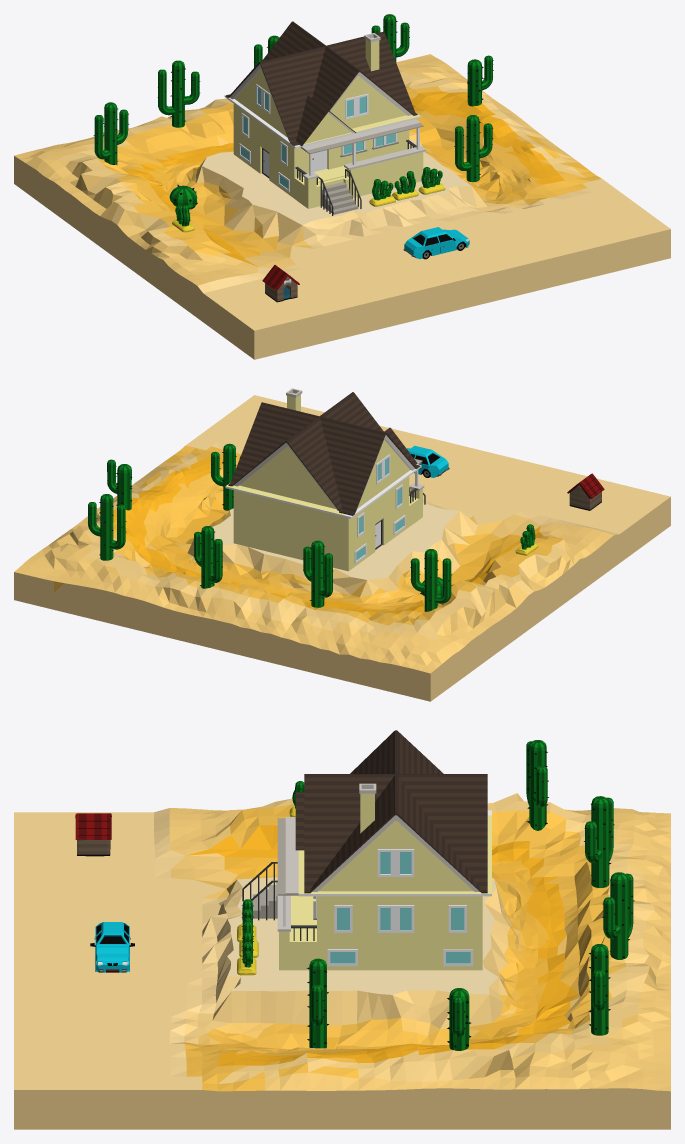
The picture shows the model from 3 angles, top to bottom: view 1: azimuth 30°, elevation 25°; view 2: azimuth 150°, elevation 25°; view 3: azimuth 270°, elevation 25°; orthographic projection. The views are drawn at different scales.
Visible parts, largest first — view 1: Cube.001, Cube.1555, Cylinder.037, Cylinder.044, Cylinder.045, VEHICLES_CAR, Cylinder.038, OBJRANDOM_DOGHOUSE, Cylinder.042, Cylinder.039, Cylinder.041, Sphere.023 (+1 smaller); view 2: Cube.001, Cube.1555, Cylinder.042, Cylinder.045, Cylinder.044, Cylinder.043, Cylinder.037, Cylinder.038, OBJRANDOM_DOGHOUSE, VEHICLES_CAR; view 3: Cube.001, Cube.1555, Cylinder.043, Cylinder.044, Cylinder.045, VEHICLES_CAR, Cylinder.042, Cylinder.037, OBJRANDOM_DOGHOUSE, Cylinder.038, Cylinder.041.
Boxes of the visible parts, bbox=[...] form: Cube.001: bbox=[14, 54, 670, 359]; Cube.1555: bbox=[224, 21, 426, 215]; Cylinder.037: bbox=[454, 115, 493, 182]; Cylinder.044: bbox=[157, 60, 200, 127]; Cylinder.045: bbox=[93, 102, 129, 164]; VEHICLES_CAR: bbox=[403, 227, 469, 259]; Cylinder.038: bbox=[467, 55, 493, 106]; OBJRANDOM_DOGHOUSE: bbox=[262, 265, 299, 302]; Cylinder.042: bbox=[371, 14, 409, 62]; Cylinder.039: bbox=[369, 179, 395, 206]; Cylinder.041: bbox=[418, 167, 445, 194]; Sphere.023: bbox=[169, 184, 197, 209]; Cube.001: bbox=[14, 395, 670, 701]; Cube.1555: bbox=[225, 388, 425, 571]; Cylinder.042: bbox=[88, 494, 126, 560]; Cylinder.045: bbox=[410, 549, 452, 611]; Cylinder.044: bbox=[303, 540, 333, 607]; Cylinder.043: bbox=[193, 526, 222, 588]; Cylinder.037: bbox=[211, 443, 240, 510]; Cylinder.038: bbox=[107, 459, 131, 510]; OBJRANDOM_DOGHOUSE: bbox=[567, 473, 604, 510]; VEHICLES_CAR: bbox=[407, 445, 449, 477]; Cube.001: bbox=[14, 793, 670, 1129]; Cube.1555: bbox=[242, 730, 491, 970]; Cylinder.043: bbox=[602, 872, 634, 959]; Cylinder.044: bbox=[584, 796, 614, 887]; Cylinder.045: bbox=[526, 740, 548, 830]; VEHICLES_CAR: bbox=[90, 922, 134, 972]; Cylinder.042: bbox=[588, 944, 610, 1035]; Cylinder.037: bbox=[307, 958, 328, 1048]; OBJRANDOM_DOGHOUSE: bbox=[75, 813, 111, 856]; Cylinder.038: bbox=[447, 988, 471, 1050]; Cylinder.041: bbox=[237, 932, 256, 975].
Bounding box in the file's own units: 4002 × 1778 × 4001.
35 materials, 2 textured.
